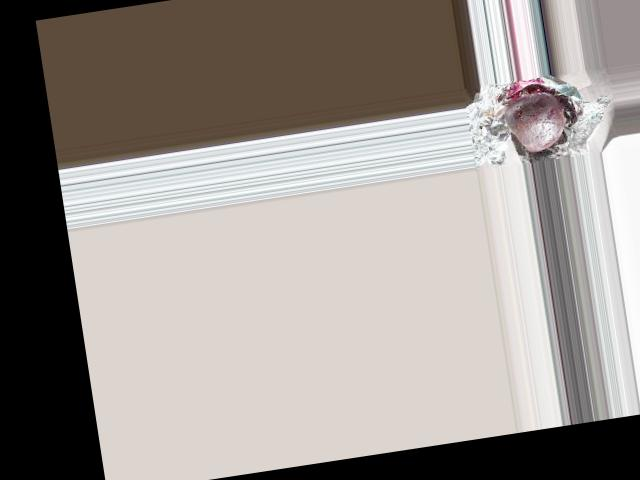beet: (501, 91, 569, 155)
